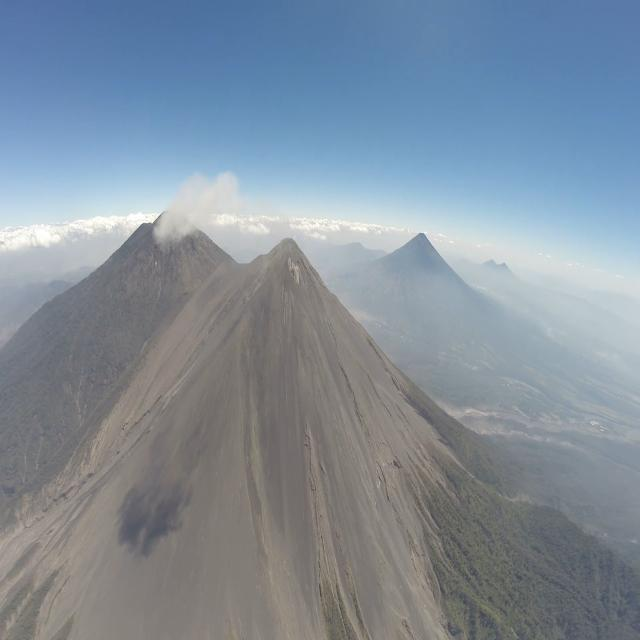Plume: (153, 166, 255, 252)
Summit: (250, 236, 328, 288)
